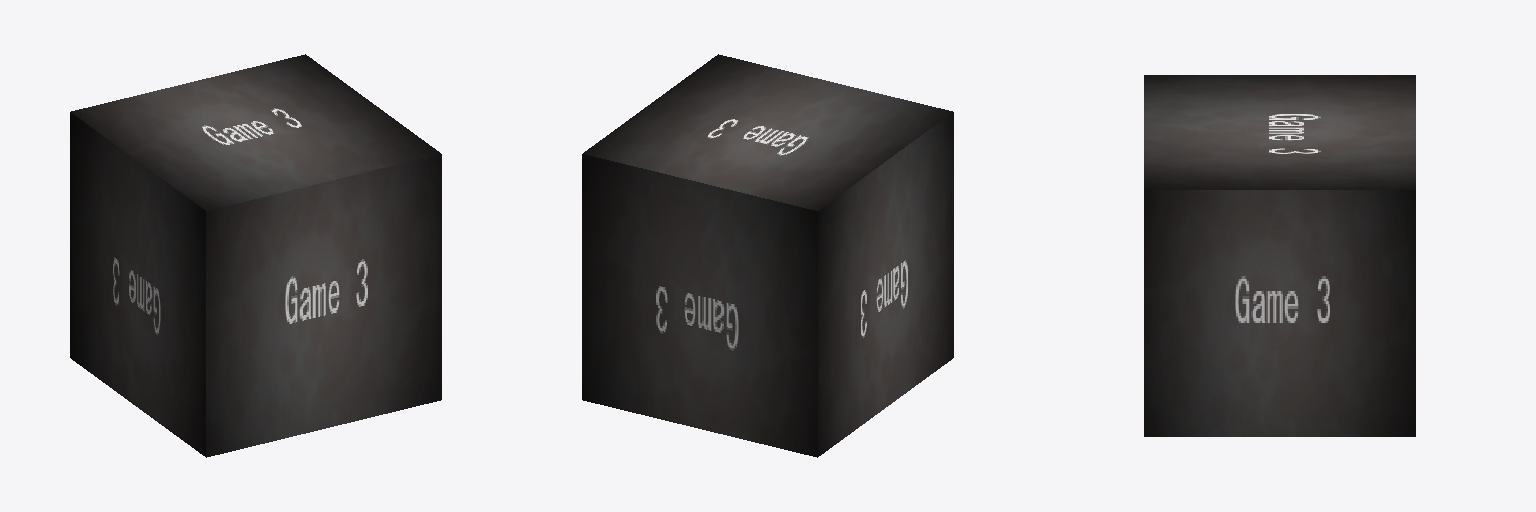
3 renders of one model, left to right at view 1: azimuth 30°, elevation 25°; view 2: azimuth 150°, elevation 25°; view 3: azimuth 270°, elevation 25°, orthographic.
Parts seen in each view (by area): view 1: Cube; view 2: Cube; view 3: Cube.
Part boxes in pixels (x1,y1,x2,y2): Cube: (70, 54, 441, 457); Cube: (582, 54, 953, 457); Cube: (1144, 75, 1415, 436).
Size of the model in its own units: 2 by 2 by 2.
1 materials, 1 textured.